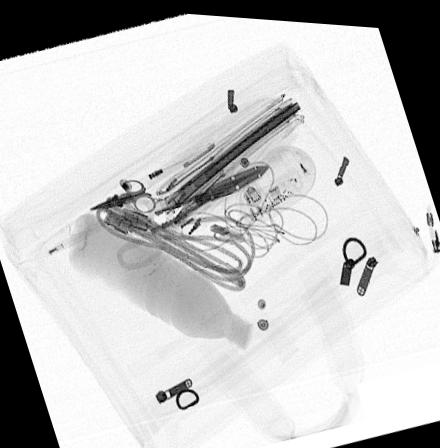Scissors: (101, 160, 271, 270), (90, 176, 158, 213)
